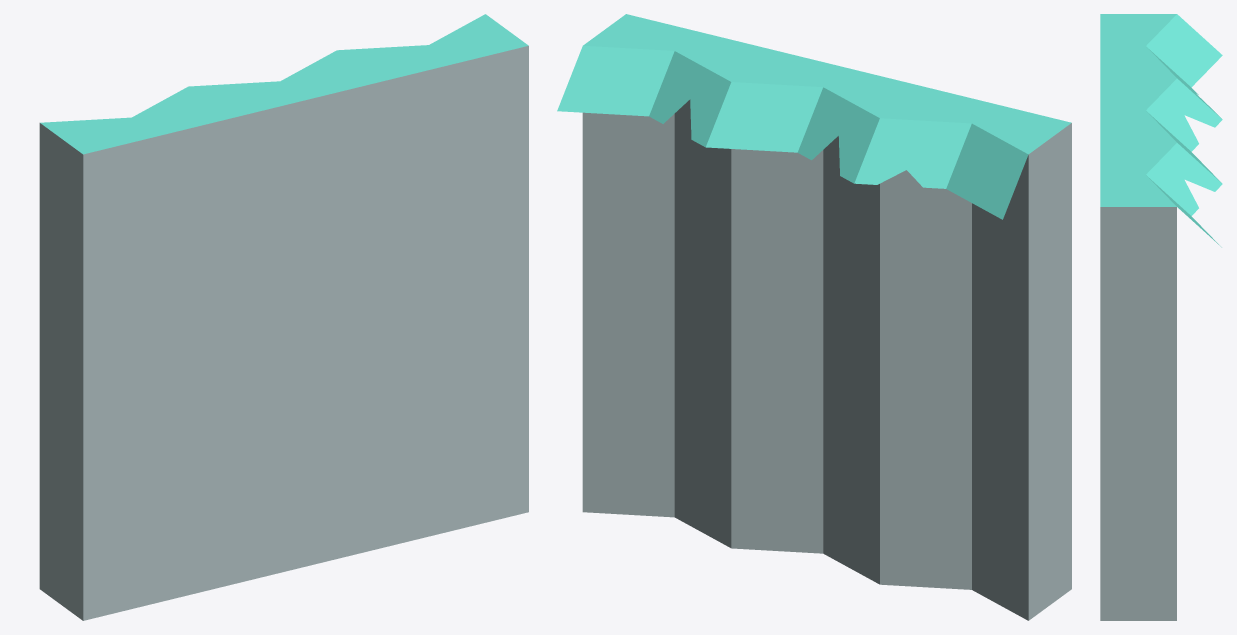
Rendered from cliff_top_stone.glb.
3 renders of one model, left to right at view 1: azimuth 30°, elevation 25°; view 2: azimuth 150°, elevation 25°; view 3: azimuth 270°, elevation 25°, orthographic. The views are drawn at different scales.
Parts seen in each view (by area): view 1: cliff_top_stone; view 2: cliff_top_stone; view 3: cliff_top_stone.
Part boxes in pixels (left/top/right/bottom): cliff_top_stone: left=39, top=14, right=528, bottom=620; cliff_top_stone: left=557, top=14, right=1071, bottom=620; cliff_top_stone: left=1100, top=14, right=1222, bottom=620.
Size of the model in its own units: 1 by 1 by 0.2685.
